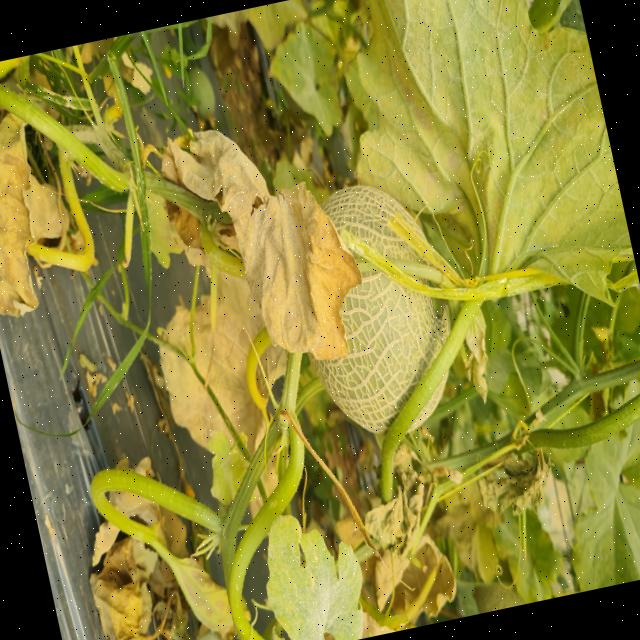melon: (309, 271, 449, 433), (320, 184, 422, 262)
